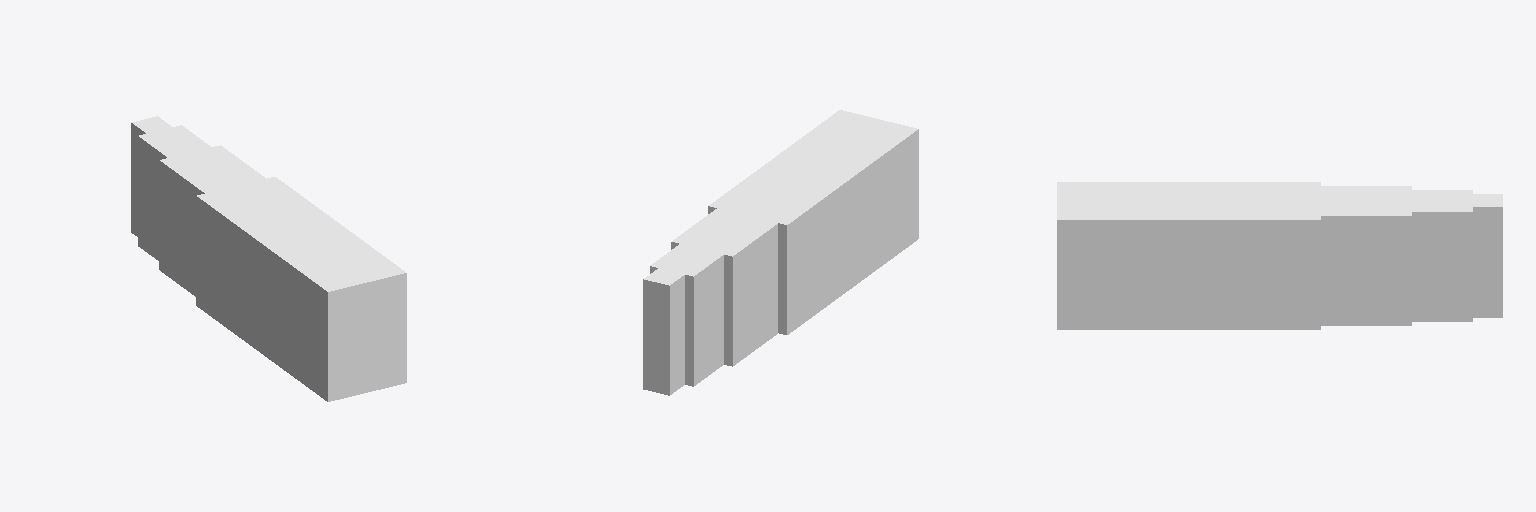
File: turbine_head.obj
The picture shows the model from 3 angles: view 1: azimuth 30°, elevation 25°; view 2: azimuth 150°, elevation 25°; view 3: azimuth 270°, elevation 25°; orthographic projection.
Visible parts, largest first — view 1: turbine_head; view 2: turbine_head; view 3: turbine_head.
Boxes of the visible parts, box(x1,y1,x2,y2) form: turbine_head: box(131, 116, 406, 401); turbine_head: box(643, 110, 918, 395); turbine_head: box(1057, 182, 1502, 329).
Size of the model in its own units: 9 by 12 by 44.